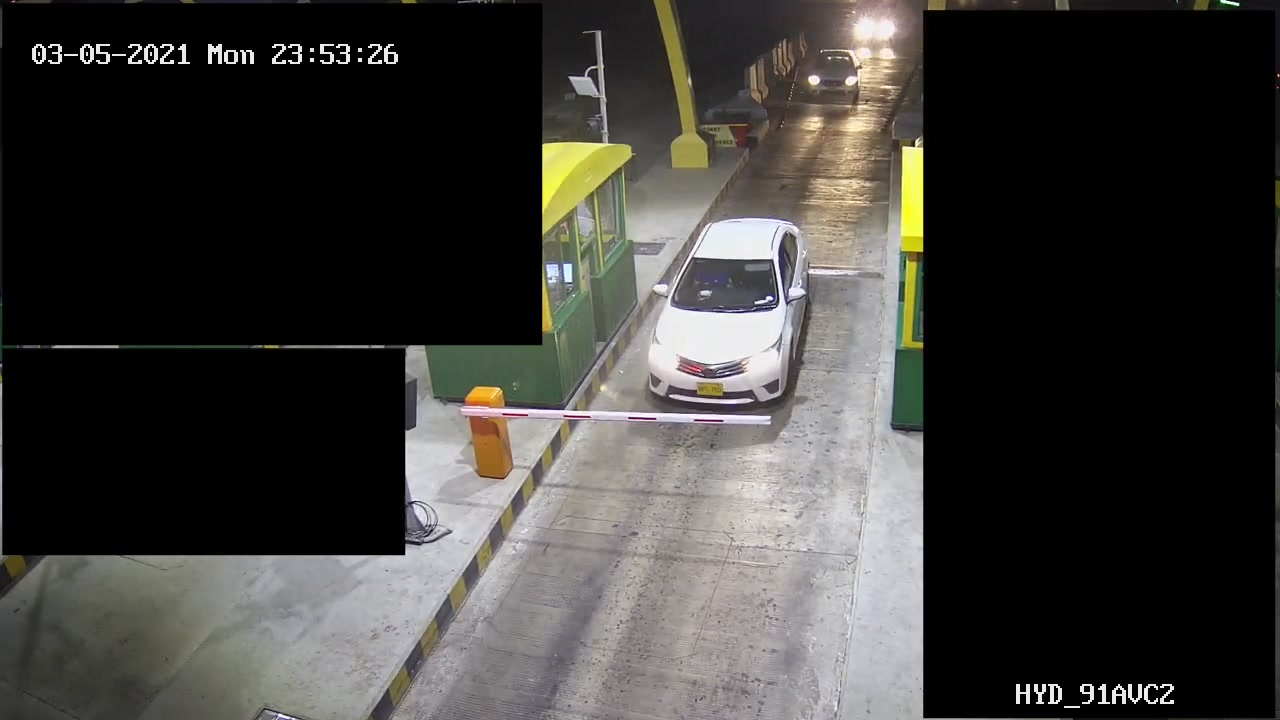F1: (640, 213, 813, 412)
